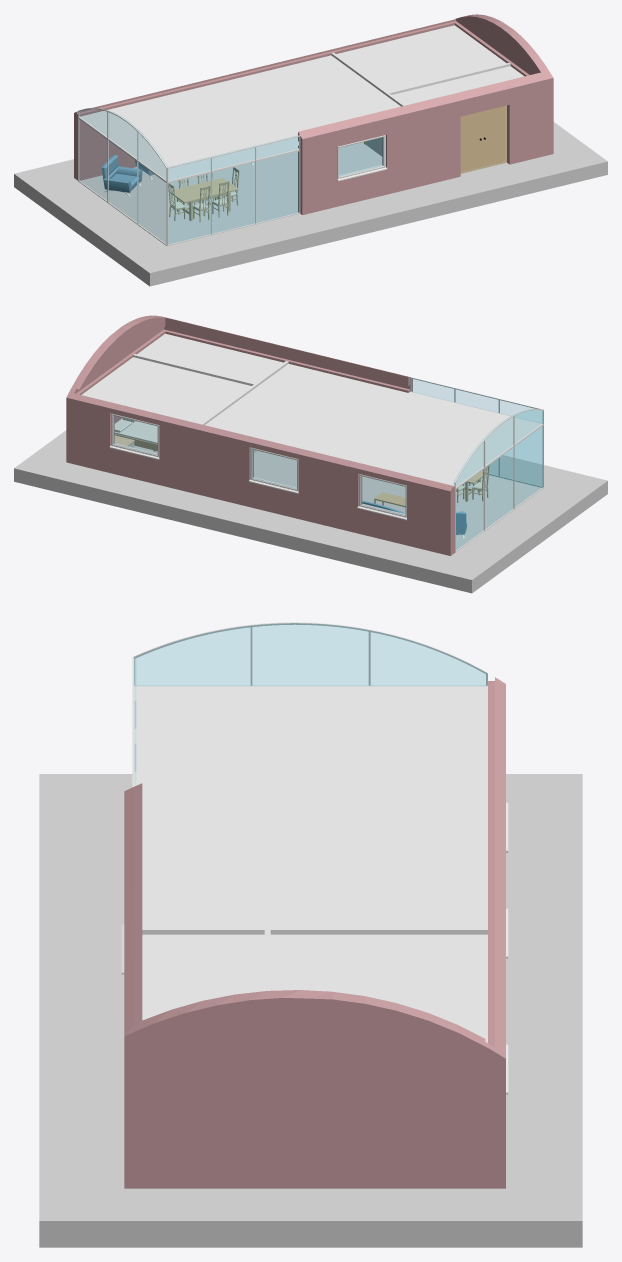
The model's file is Nha2.glb.
The picture shows the model from 3 angles, top to bottom: view 1: azimuth 30°, elevation 25°; view 2: azimuth 150°, elevation 25°; view 3: azimuth 270°, elevation 25°; orthographic projection. The views are drawn at different scales.
Visible parts, largest first — view 1: NHA_2_192,192,192,100, NHA_2_249,249,249,100, NHA_2_170,100,105,100, NHA_2_0,128,192,10, NHA_2_210,159,95,100, NHA_2_247,247,247,100, NHA_2_213,164,103,100, NHA_2_72,136,188,100; view 2: NHA_2_249,249,249,100, NHA_2_170,100,105,100, NHA_2_192,192,192,100, NHA_2_0,128,192,10, NHA_2_247,247,247,100, NHA_2_213,164,103,100, NHA_2_247,247,239,100, NHA_2_72,136,188,100; view 3: NHA_2_249,249,249,100, NHA_2_192,192,192,100, NHA_2_170,100,105,100, NHA_2_0,128,192,10, NHA_2_247,247,247,100.
Boxes of the visible parts, x1,y1,x2,y2 form: NHA_2_192,192,192,100: (14,122,607,286); NHA_2_249,249,249,100: (79,25,524,182); NHA_2_170,100,105,100: (74,14,553,215); NHA_2_0,128,192,10: (80,109,382,243); NHA_2_210,159,95,100: (460,106,505,171); NHA_2_247,247,247,100: (78,108,300,245); NHA_2_213,164,103,100: (168,167,239,222); NHA_2_72,136,188,100: (102,155,153,192); NHA_2_249,249,249,100: (81,333,543,520); NHA_2_170,100,105,100: (66,315,454,555); NHA_2_192,192,192,100: (14,430,607,593); NHA_2_0,128,192,10: (114,378,542,549); NHA_2_247,247,247,100: (410,377,543,552); NHA_2_213,164,103,100: (114,434,489,507); NHA_2_247,247,239,100: (114,418,157,447); NHA_2_72,136,188,100: (362,501,467,534); NHA_2_249,249,249,100: (121,685,508,1094); NHA_2_192,192,192,100: (39,774,582,1247); NHA_2_170,100,105,100: (124,677,505,1188); NHA_2_0,128,192,10: (134,624,487,771); NHA_2_247,247,247,100: (132,622,487,787).
Bounding box in the file's own units: 16.87 × 3.83 × 8.67.
